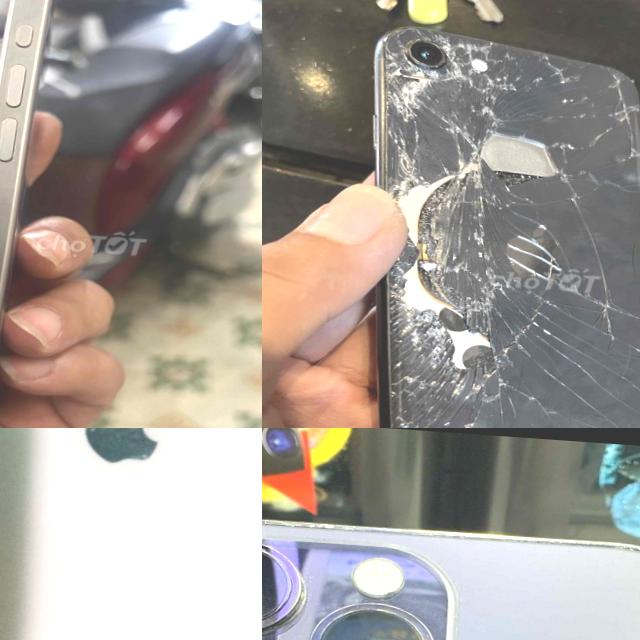gen_12_13: (0, 428, 262, 640)
gen_14: (262, 495, 640, 640)
gen_15: (0, 0, 68, 428)
gen_7_8: (335, 17, 640, 428)
